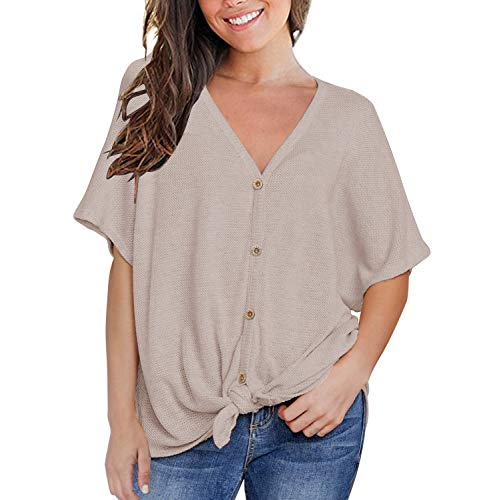S_short blouse: (74, 56, 432, 457)
